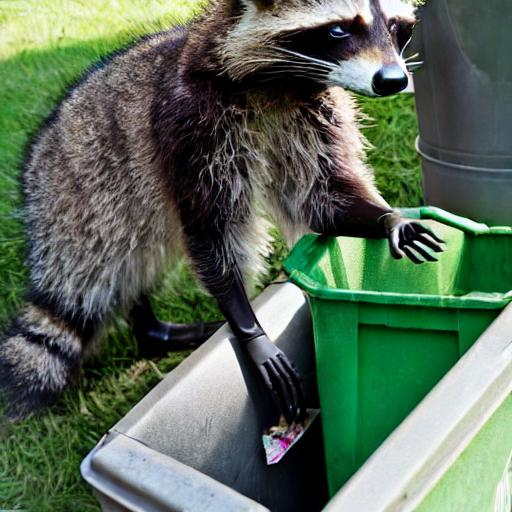raccoon: (0, 0, 425, 343)
